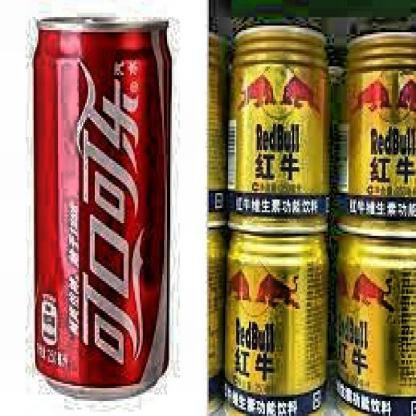Can: (28, 8, 178, 406), (225, 20, 335, 236), (222, 228, 328, 416), (338, 21, 416, 238), (336, 230, 416, 416)
